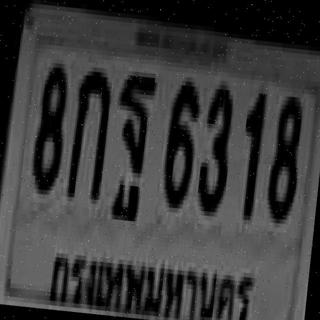A01: (66, 64, 112, 198)
A16: (108, 68, 156, 202)
N01: (235, 85, 265, 214)
N03: (194, 79, 235, 212)
N06: (159, 75, 201, 205)
N08: (29, 55, 70, 189), (264, 91, 304, 220)
P04: (42, 234, 258, 320)
